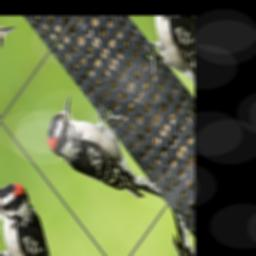Woodpecker: (38, 69, 173, 246)
